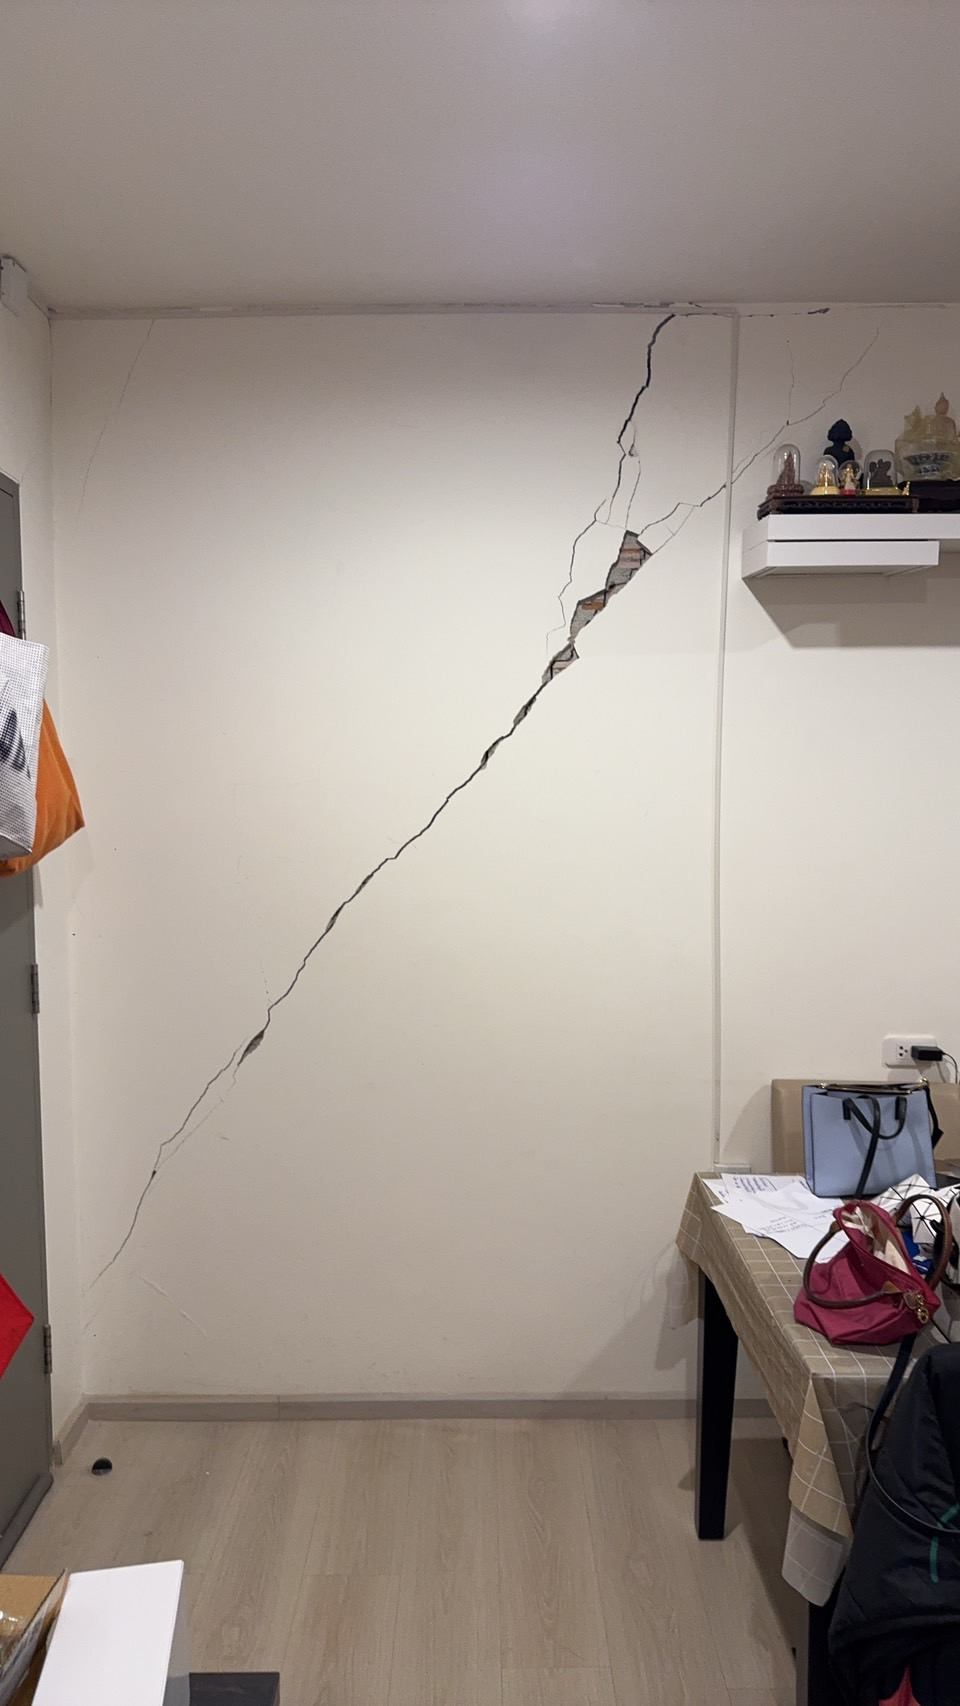High: (72, 311, 722, 1290)
